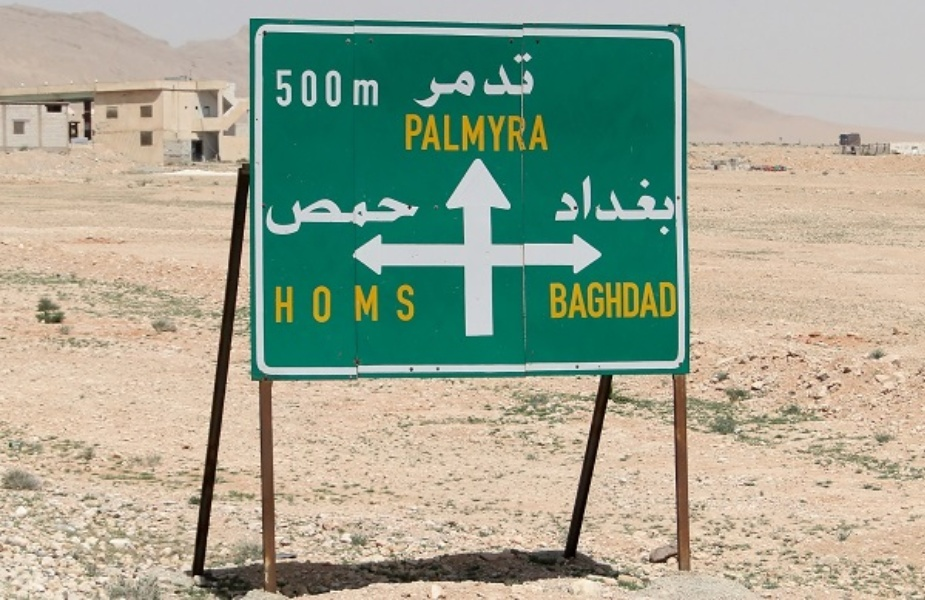text: (561, 166, 576, 238), (577, 166, 592, 238), (593, 166, 608, 238), (609, 166, 624, 238), (625, 166, 640, 238), (641, 166, 656, 238), (657, 166, 672, 238), (433, 51, 448, 110), (449, 51, 464, 110), (465, 51, 480, 110), (481, 51, 496, 110), (497, 51, 512, 110), (513, 51, 528, 110), (548, 166, 560, 238), (273, 193, 288, 238), (289, 193, 304, 238), (305, 193, 320, 238), (321, 193, 336, 238), (337, 193, 352, 238), (353, 193, 368, 238), (369, 193, 384, 238), (385, 193, 400, 238), (401, 193, 416, 238), (401, 283, 417, 324), (417, 110, 432, 153), (433, 110, 448, 153), (449, 110, 464, 153), (465, 110, 480, 153), (481, 110, 496, 153), (497, 110, 512, 153), (513, 110, 528, 153), (529, 110, 544, 153), (289, 283, 304, 324), (305, 283, 320, 324), (321, 283, 336, 324), (337, 283, 352, 324), (353, 283, 368, 324), (369, 283, 384, 324), (385, 283, 400, 324), (289, 68, 304, 108), (305, 68, 320, 108), (321, 68, 336, 108), (561, 281, 576, 318), (577, 281, 592, 318), (593, 281, 608, 318), (609, 281, 624, 318), (625, 281, 640, 318), (641, 281, 656, 318), (657, 281, 672, 318), (275, 283, 288, 324), (404, 110, 416, 153), (276, 68, 288, 108), (529, 51, 537, 110), (673, 166, 679, 238), (353, 79, 368, 107), (549, 281, 560, 318), (337, 68, 346, 108), (266, 193, 272, 238), (417, 193, 423, 238), (369, 79, 378, 107), (428, 51, 432, 110), (673, 281, 679, 318), (545, 110, 549, 153)
